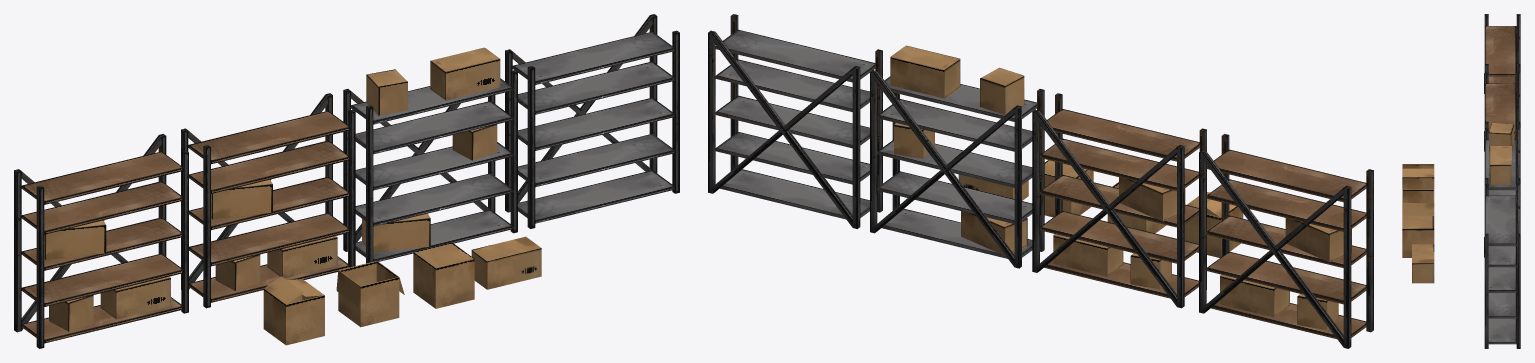
The model's file is PSX Storage Shelves Cardboard Boxes.glb.
3 renders of one model, left to right at view 1: azimuth 30°, elevation 25°; view 2: azimuth 150°, elevation 25°; view 3: azimuth 270°, elevation 25°, orthographic. The views are drawn at different scales.
Parts seen in each view (by area): view 1: Storage_Shelves_04_Storage_Shelves_0.001, Storage_Shelves_01, Storage_Shelves_01_Storage_Shelves_0.002, Storage_Shelves_04, Cardboard_box_01, Cardboard_box_02, Cardboard_box_03, Cardboard_box_04; view 2: Storage_Shelves_04_Storage_Shelves_0.001, Storage_Shelves_01, Storage_Shelves_01_Storage_Shelves_0.002, Storage_Shelves_04, Cardboard_box_01, Cardboard_box_03, Cardboard_box_04, Cardboard_box_02; view 3: Storage_Shelves_04, Storage_Shelves_04_Storage_Shelves_0.001, Storage_Shelves_01, Storage_Shelves_01_Storage_Shelves_0.002, Cardboard_box_03, Cardboard_box_04, Cardboard_box_02, Cardboard_box_01.
Boxes of the visible parts, x1,y1,x2,y2 form: Storage_Shelves_04_Storage_Shelves_0.001: [343, 47, 517, 263]; Storage_Shelves_01: [14, 134, 188, 348]; Storage_Shelves_01_Storage_Shelves_0.002: [181, 93, 355, 308]; Storage_Shelves_04: [505, 14, 679, 228]; Cardboard_box_01: [263, 276, 324, 345]; Cardboard_box_02: [336, 261, 404, 327]; Cardboard_box_03: [413, 242, 474, 308]; Cardboard_box_04: [471, 236, 541, 289]; Storage_Shelves_04_Storage_Shelves_0.001: [870, 45, 1044, 268]; Storage_Shelves_01: [1199, 134, 1373, 348]; Storage_Shelves_01_Storage_Shelves_0.002: [1032, 93, 1206, 308]; Storage_Shelves_04: [708, 14, 882, 228]; Cardboard_box_01: [1184, 192, 1243, 257]; Cardboard_box_03: [1044, 160, 1093, 217]; Cardboard_box_04: [958, 174, 1028, 200]; Cardboard_box_02: [1107, 182, 1166, 233]; Storage_Shelves_04: [1484, 183, 1520, 348]; Storage_Shelves_04_Storage_Shelves_0.001: [1484, 123, 1520, 257]; Storage_Shelves_01: [1484, 14, 1520, 93]; Storage_Shelves_01_Storage_Shelves_0.002: [1484, 71, 1520, 151]; Cardboard_box_03: [1402, 215, 1434, 257]; Cardboard_box_04: [1412, 244, 1434, 283]; Cardboard_box_02: [1402, 189, 1434, 215]; Cardboard_box_01: [1402, 164, 1434, 189].
Bounding box in the file's own units: 9.2 × 2.39 × 2.07.
1 material, 1 textured.
